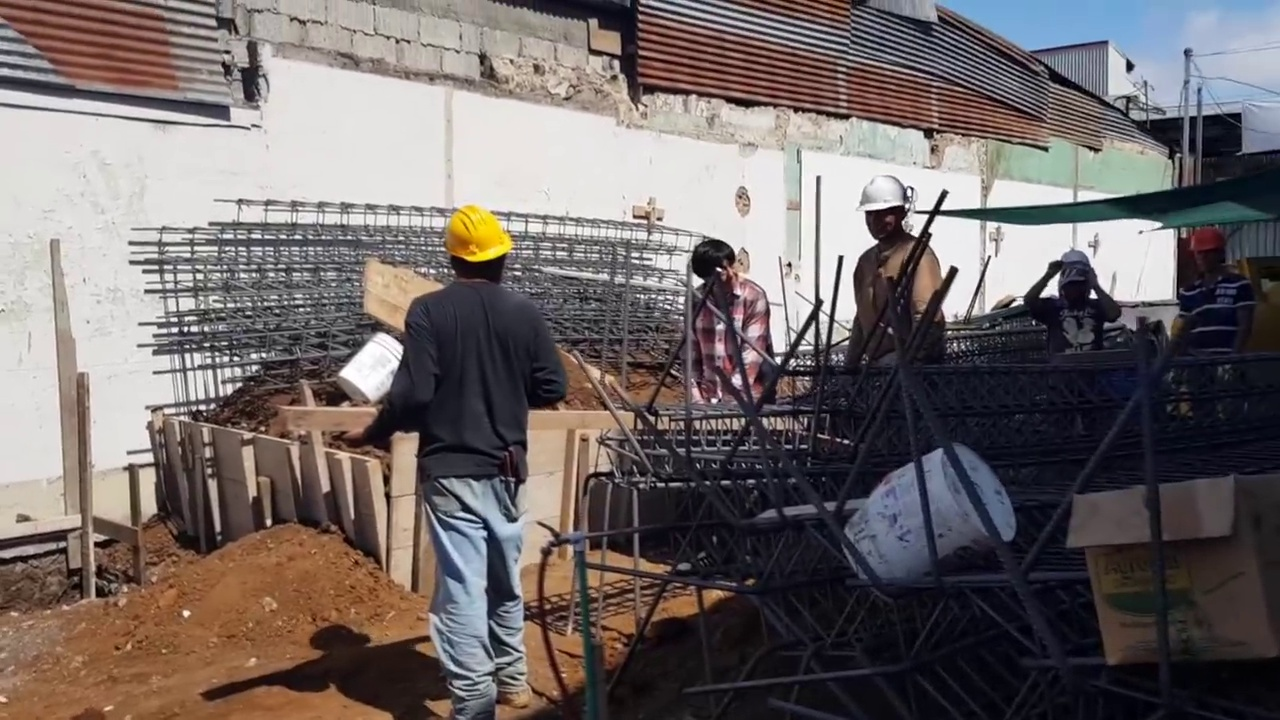helmet: (438, 207, 514, 268), (1187, 221, 1230, 286), (856, 170, 913, 210), (1188, 225, 1230, 252), (1060, 248, 1091, 267)
helmet-off: (687, 239, 737, 303)
helmet-on: (434, 198, 513, 291), (860, 174, 920, 245), (1051, 250, 1103, 300)
person: (323, 179, 567, 698), (832, 168, 952, 363), (680, 238, 780, 412), (1172, 223, 1252, 367), (1024, 247, 1117, 359)
